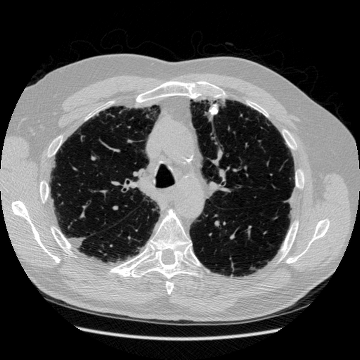nodule: (208, 104, 220, 116)
